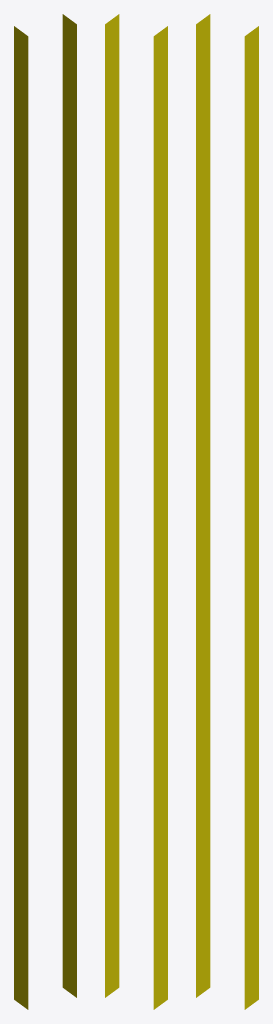
Rendered from DoorMiddle.fbx.
3 renders of one model, left to right at view 1: azimuth 30°, elevation 25°; view 2: azimuth 150°, elevation 25°; view 3: azimuth 330°, elevation 25°, orthographic.
Parts seen in each view (by area): view 1: Door.001; view 2: Door.001; view 3: Door.001.
Part boxes in pixels (left/top/right/bottom): Door.001: left=14, top=14, right=76, bottom=1009; Door.001: left=105, top=14, right=167, bottom=1009; Door.001: left=196, top=14, right=258, bottom=1009.
Size of the model in its own units: 9.96 by 190 by 5.
